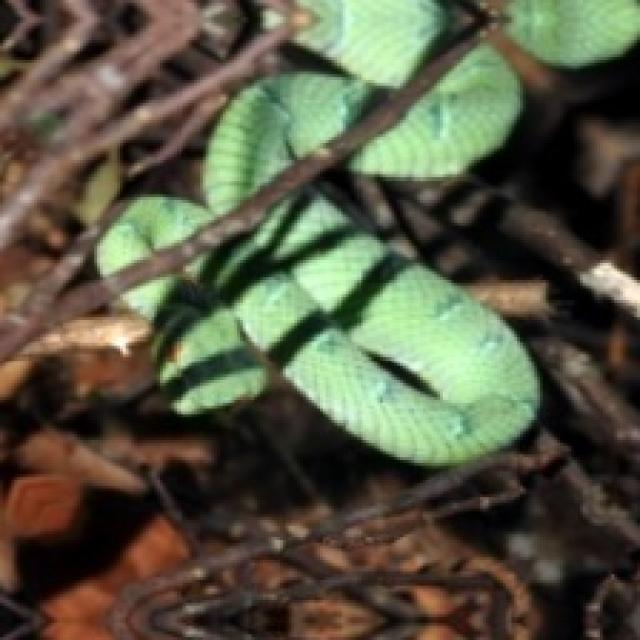north ph temple pitviper: (123, 186, 537, 463), (97, 0, 446, 271), (346, 46, 517, 174)
